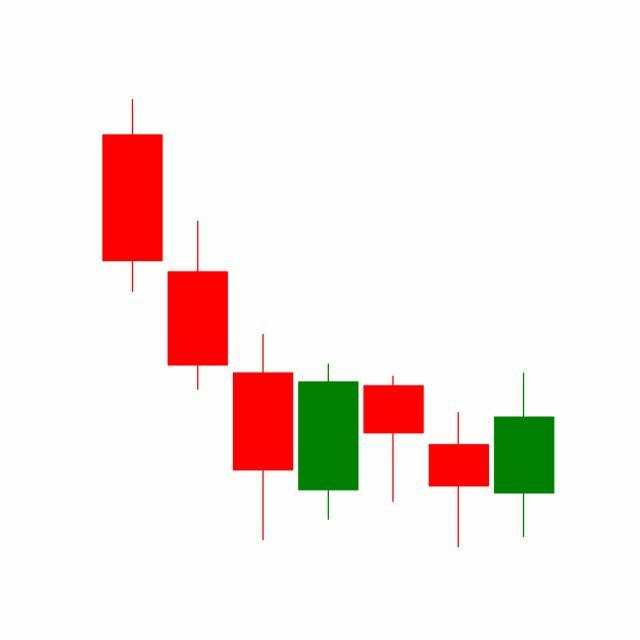Hikkake Pattern: (165, 216, 492, 548)
